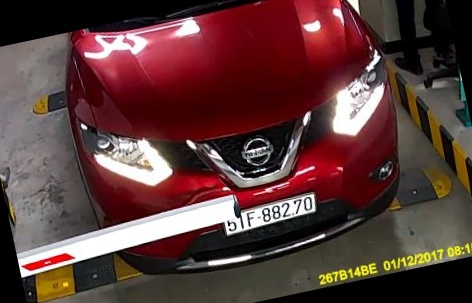plate: (217, 193, 322, 230)
